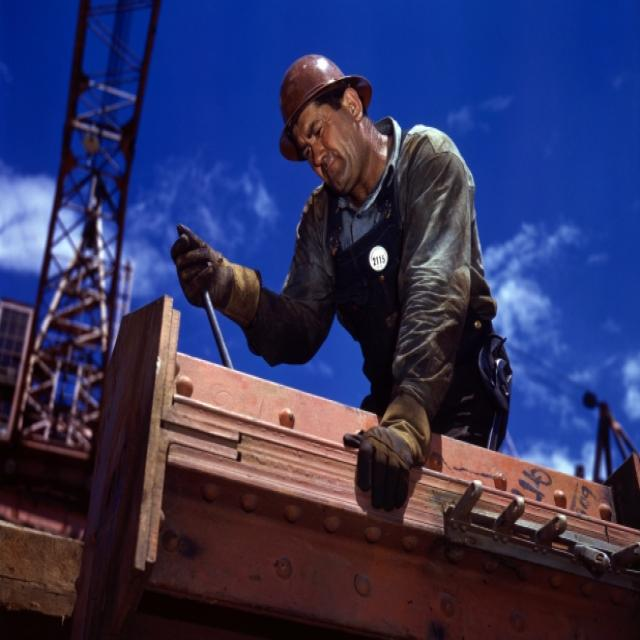Safety-Helmet: (274, 45, 368, 156)
